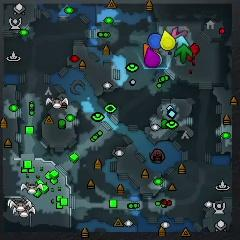p1: (148, 32, 163, 49)
p3: (145, 47, 160, 67)
p4: (160, 30, 176, 51)
p5: (143, 43, 160, 58)
x1: (171, 26, 187, 38)
x3: (175, 35, 189, 49)
x4: (175, 44, 192, 64)
